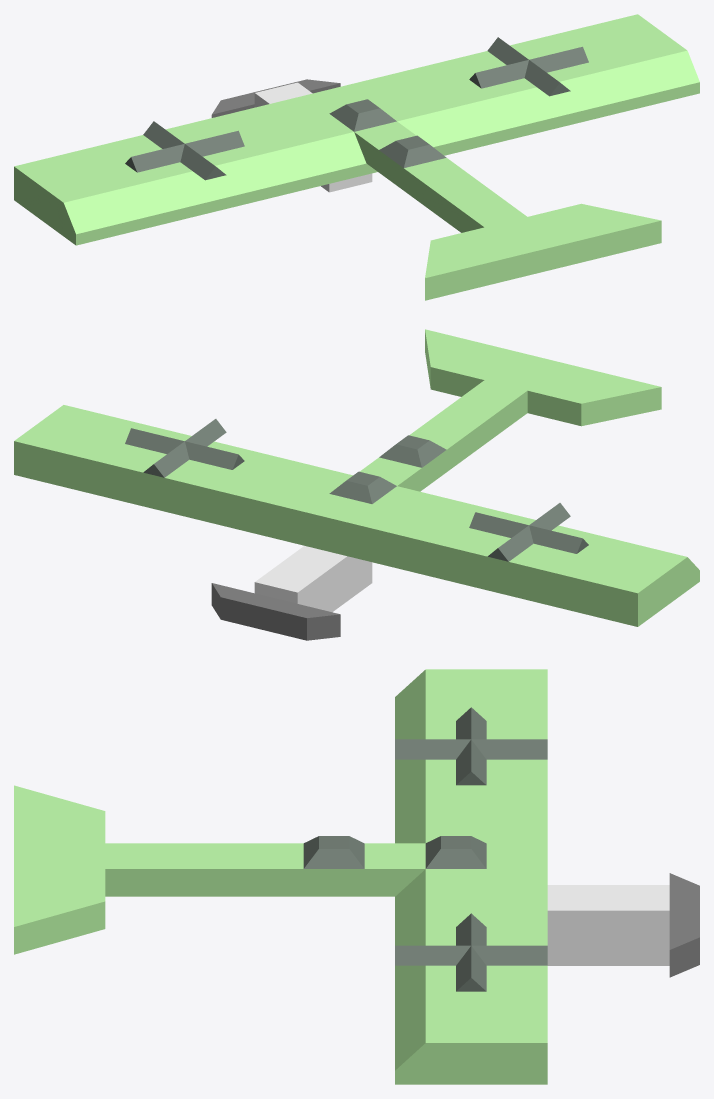
The model's file is Junkers CL.I MintGreen.dae.
3 renders of one model, top to bottom at view 1: azimuth 30°, elevation 25°; view 2: azimuth 150°, elevation 25°; view 3: azimuth 270°, elevation 25°, orthographic. The views are drawn at different scales.
Visible parts, largest first — view 1: Cube.010; view 2: Cube.010; view 3: Cube.010.
Boxes of the visible parts, box(x1,y1,x2,y2) form: Cube.010: box(14, 14, 699, 300); Cube.010: box(14, 329, 699, 640); Cube.010: box(14, 669, 699, 1084).
Bounding box in the file's own units: 5.8 × 4.5 × 0.8.
